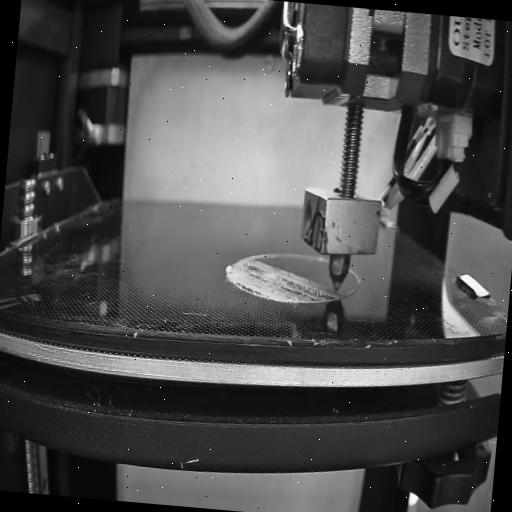under_extrusion: (276, 274, 336, 304), (233, 261, 268, 296)
